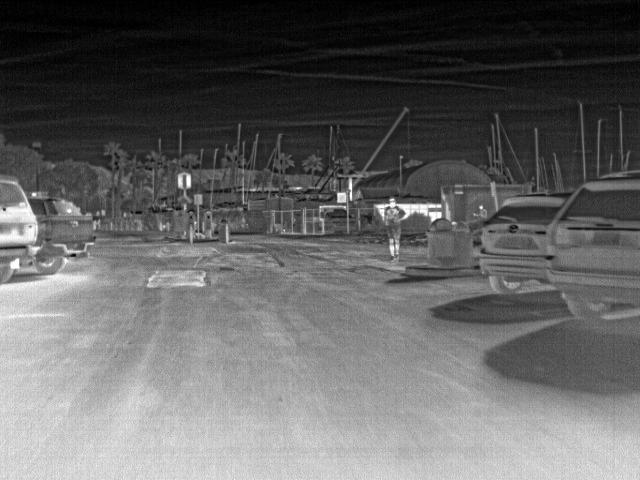car: (544, 168, 639, 328), (473, 193, 543, 295), (0, 176, 41, 287), (38, 216, 97, 276), (29, 194, 84, 215)
person: (384, 196, 405, 263), (476, 202, 488, 220)
